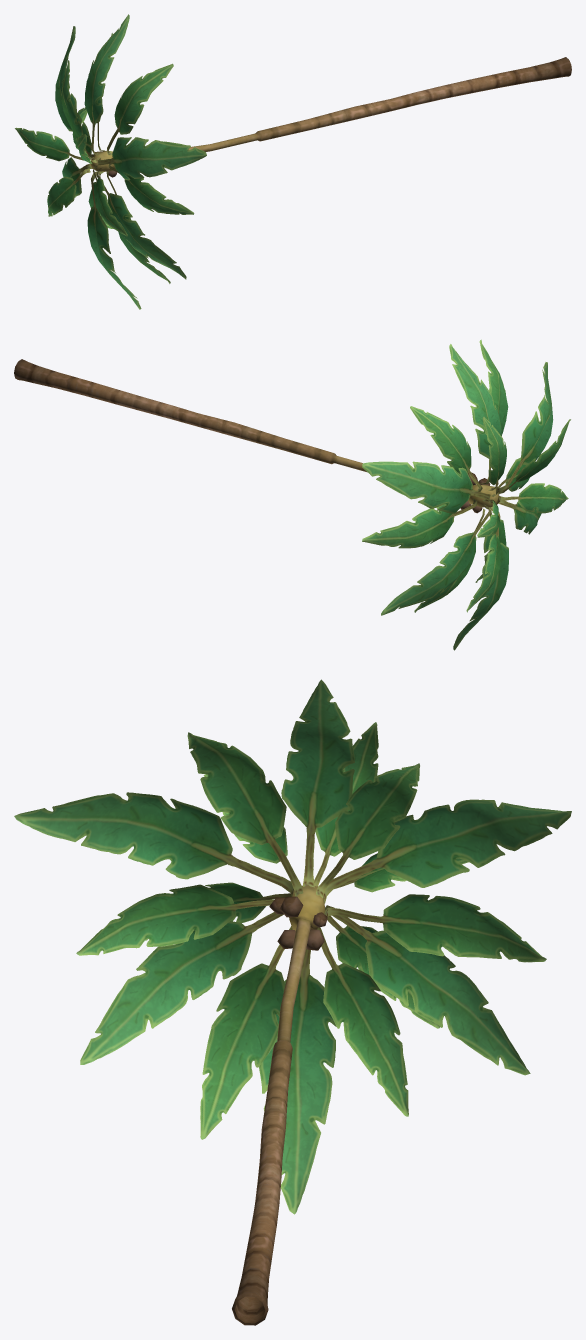
The model's file is Trunk.glb.
3 renders of one model, top to bottom at view 1: azimuth 30°, elevation 25°; view 2: azimuth 150°, elevation 25°; view 3: azimuth 270°, elevation 25°, orthographic. The views are drawn at different scales.
Parts seen in each view (by area): view 1: Trunk_LOW.001; view 2: Trunk_LOW.001; view 3: Trunk_LOW.001.
Part boxes in pixels (x1=…): Trunk_LOW.001: x1=15, y1=14, x2=571, y2=309; Trunk_LOW.001: x1=14, y1=339, x2=570, y2=650; Trunk_LOW.001: x1=14, y1=679, x2=571, y2=1325.
Bounding box in the file's own units: 21.31 × 11.91 × 11.33.
2 materials, 2 textured.
